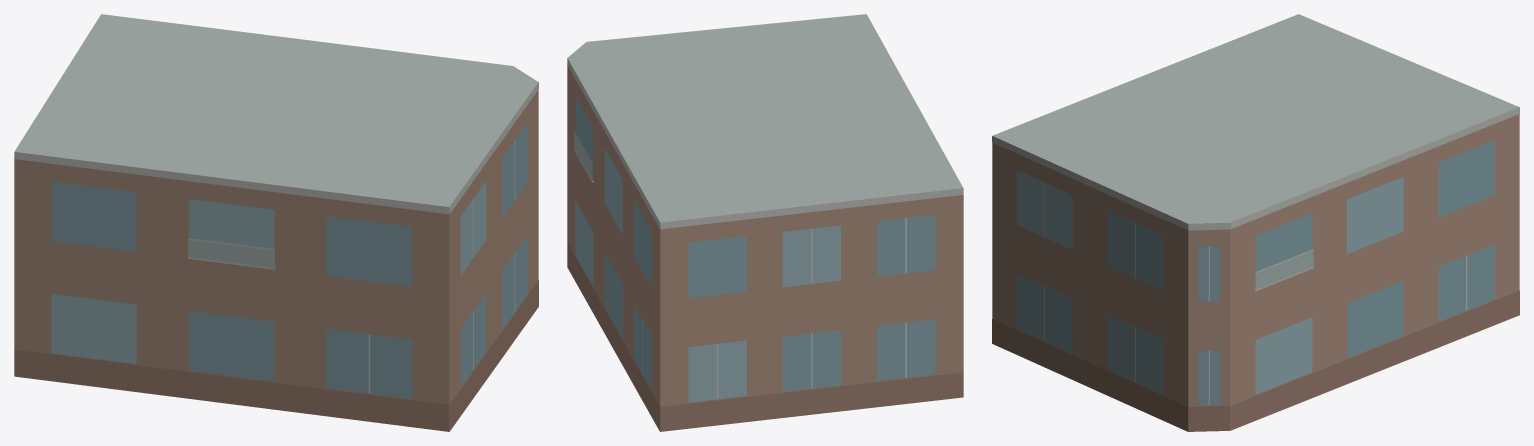
The model's file is survey-upis-32732755.glb.
The picture shows the model from 3 angles, left to right: view 1: azimuth 30°, elevation 25°; view 2: azimuth 150°, elevation 25°; view 3: azimuth 270°, elevation 25°; orthographic projection. The views are drawn at different scales.
Visible parts, largest first — view 1: survey-upis-32732755.tmp; view 2: survey-upis-32732755.tmp; view 3: survey-upis-32732755.tmp.
Boxes of the visible parts, left/top/right/bottom form: survey-upis-32732755.tmp: left=14, top=14, right=538, bottom=431; survey-upis-32732755.tmp: left=567, top=14, right=963, bottom=431; survey-upis-32732755.tmp: left=992, top=14, right=1519, bottom=431.
Size of the model in its own units: 16.46 by 7.6 by 17.48.
